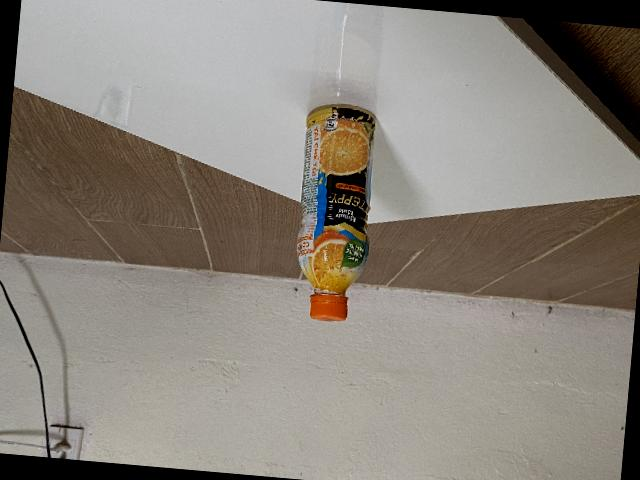teppy_orange_juice: (297, 101, 375, 319)
